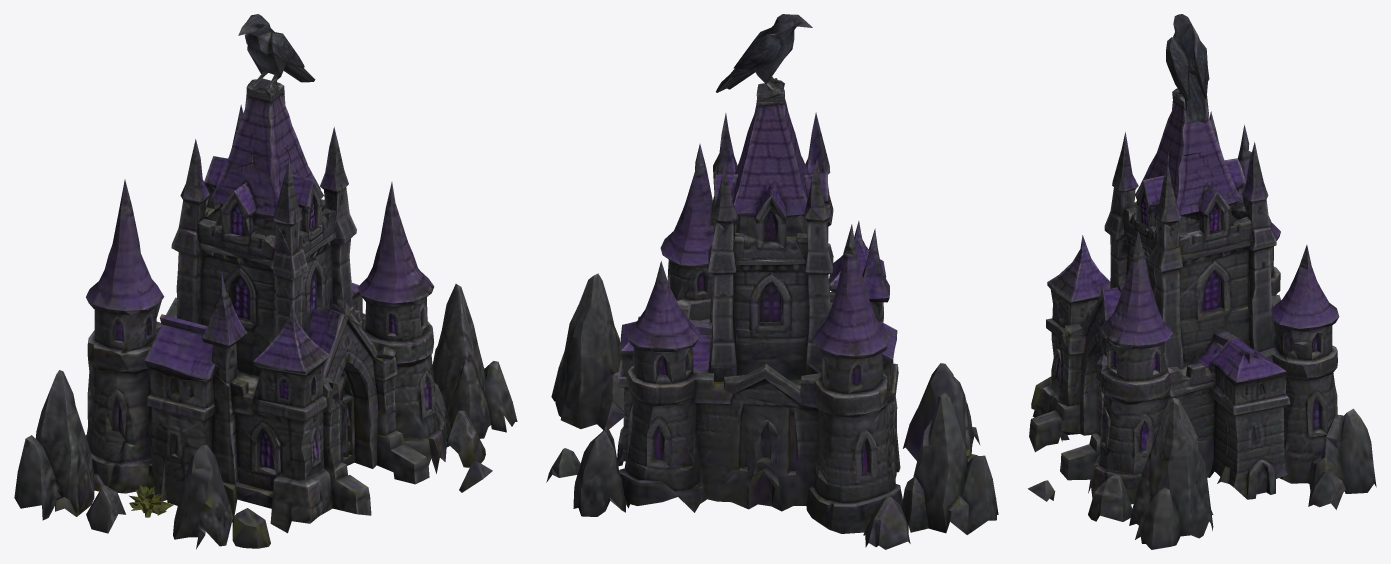
Rendered from home_ravens.glb.
3 renders of one model, left to right at view 1: azimuth 30°, elevation 25°; view 2: azimuth 150°, elevation 25°; view 3: azimuth 270°, elevation 25°, orthographic. The views are drawn at different scales.
Bounding box in the file's own units: 2.03 × 1.89 × 1.41.
Materials: 1 (1 with a texture image).
